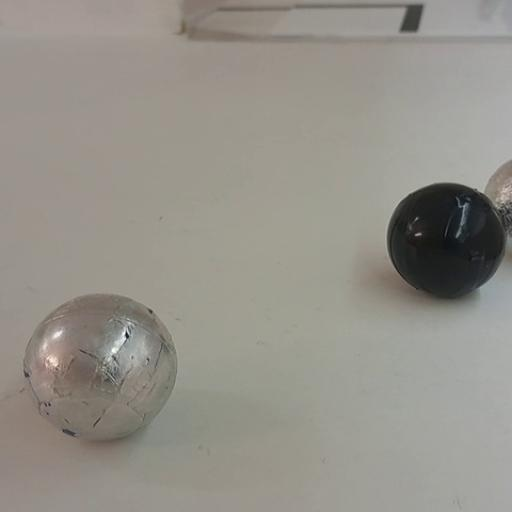alive: (22, 292, 176, 442), (483, 154, 512, 243)
dead: (386, 183, 505, 298)
